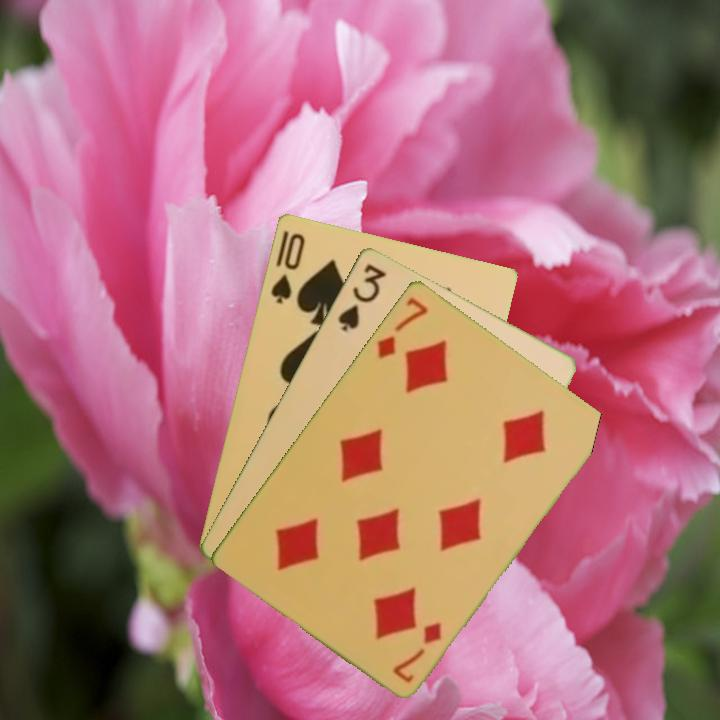10s: (267, 229, 308, 306)
3s: (334, 259, 389, 334)
7d: (373, 293, 431, 361), (389, 618, 445, 685)
